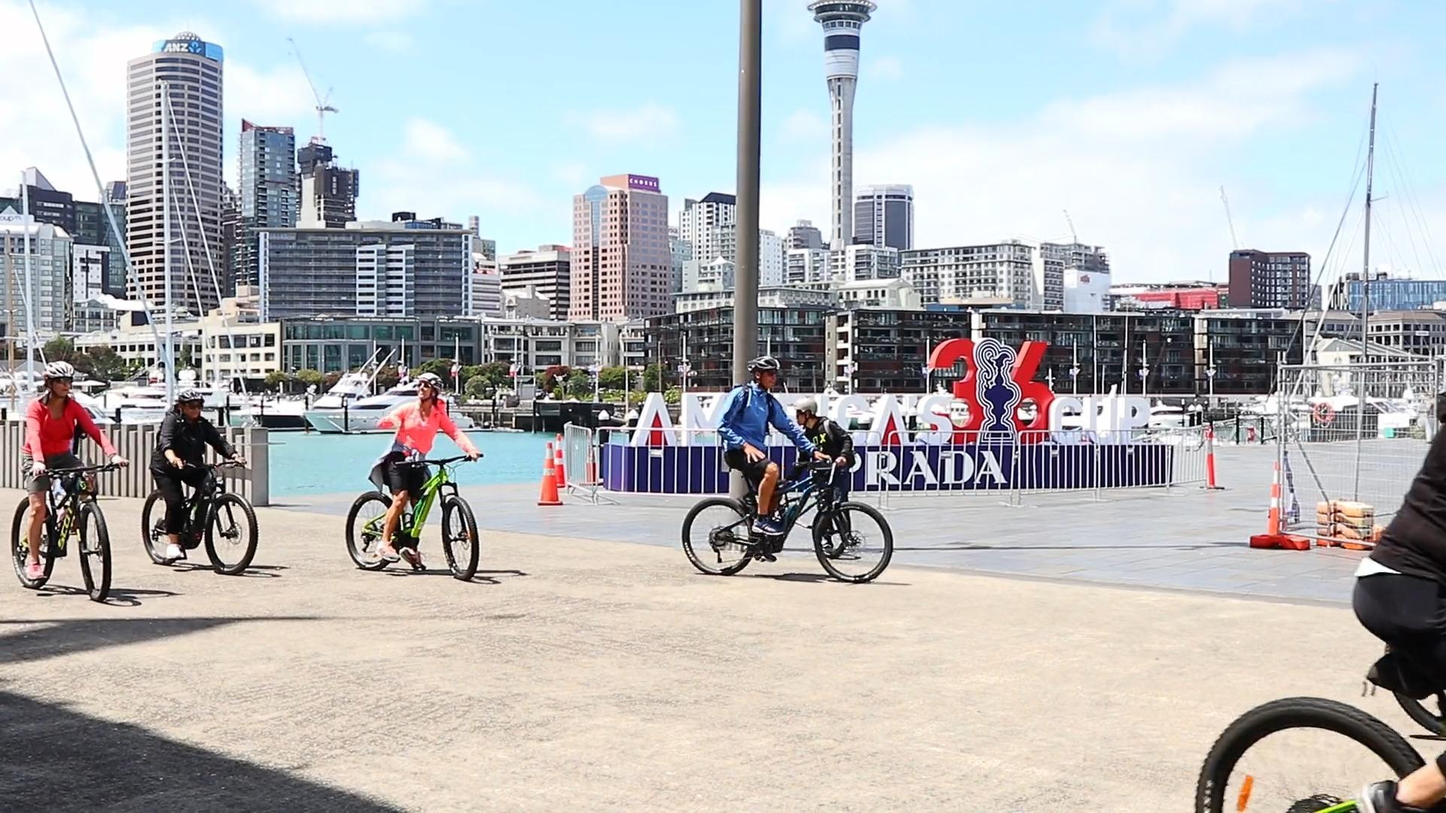bicyclist: (682, 355, 894, 584), (346, 372, 484, 581), (12, 361, 131, 603), (142, 389, 258, 576)
helmet: (41, 361, 75, 399), (747, 356, 780, 392), (178, 389, 205, 422), (417, 372, 443, 404), (793, 397, 817, 429)
